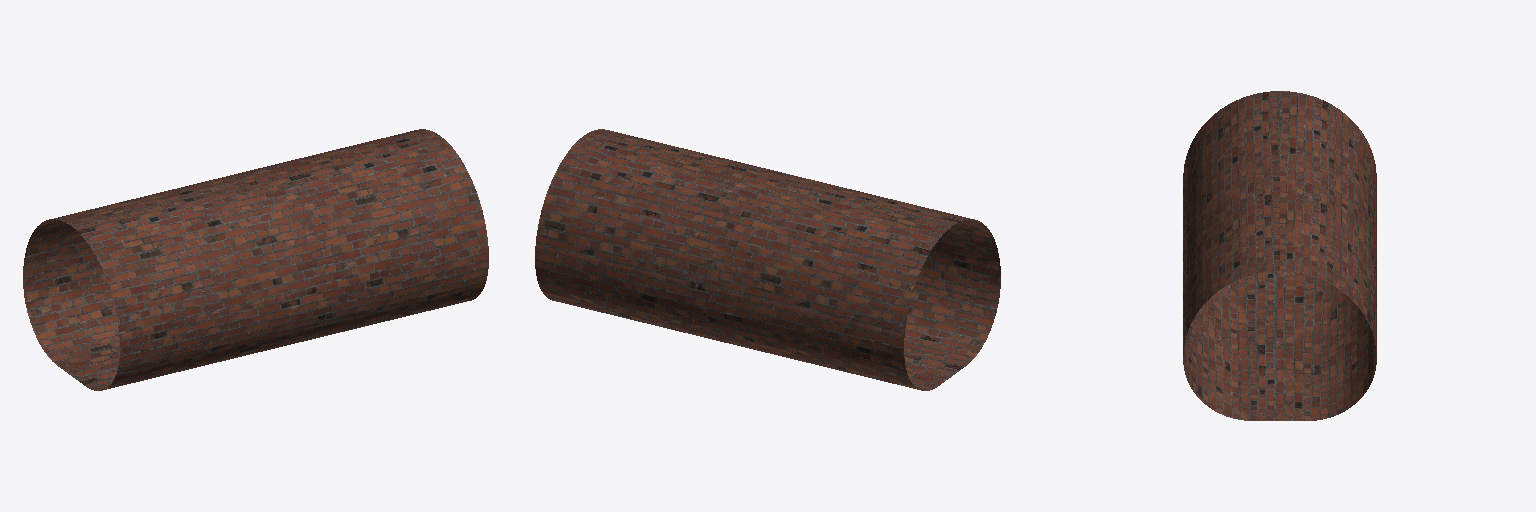
3 renders of one model, left to right at view 1: azimuth 30°, elevation 25°; view 2: azimuth 150°, elevation 25°; view 3: azimuth 270°, elevation 25°, orthographic.
Visible parts, largest first — view 1: kanal_1_CUBezierCurve.003; view 2: kanal_1_CUBezierCurve.003; view 3: kanal_1_CUBezierCurve.003.
Part boxes in pixels (bbox=[...]): kanal_1_CUBezierCurve.003: bbox=[23, 129, 488, 390]; kanal_1_CUBezierCurve.003: bbox=[535, 129, 1000, 390]; kanal_1_CUBezierCurve.003: bbox=[1183, 91, 1376, 420].
Size of the model in its own units: 8.79 by 3.42 by 4.
1 materials, 1 textured.